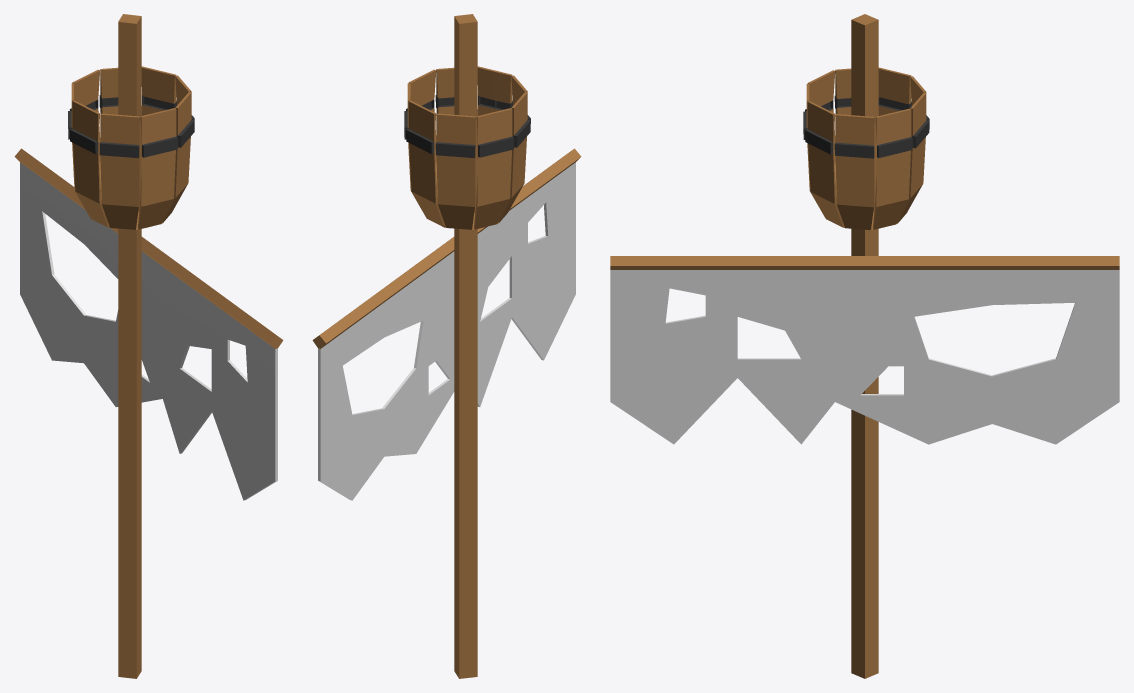
File: asta barca.fbx
3 views of the same model, side by side, from view 1: azimuth 30°, elevation 25°; view 2: azimuth 150°, elevation 25°; view 3: azimuth 270°, elevation 25° (orthographic).
Visible parts, largest first — view 1: affare della barca; view 2: affare della barca; view 3: affare della barca.
Boxes of the visible parts, bbox=[...] form: affare della barca: bbox=[14, 14, 283, 678]; affare della barca: bbox=[312, 14, 581, 678]; affare della barca: bbox=[610, 14, 1119, 678].
Size of the model in its own units: 1.29 by 5.1 by 7.22.
